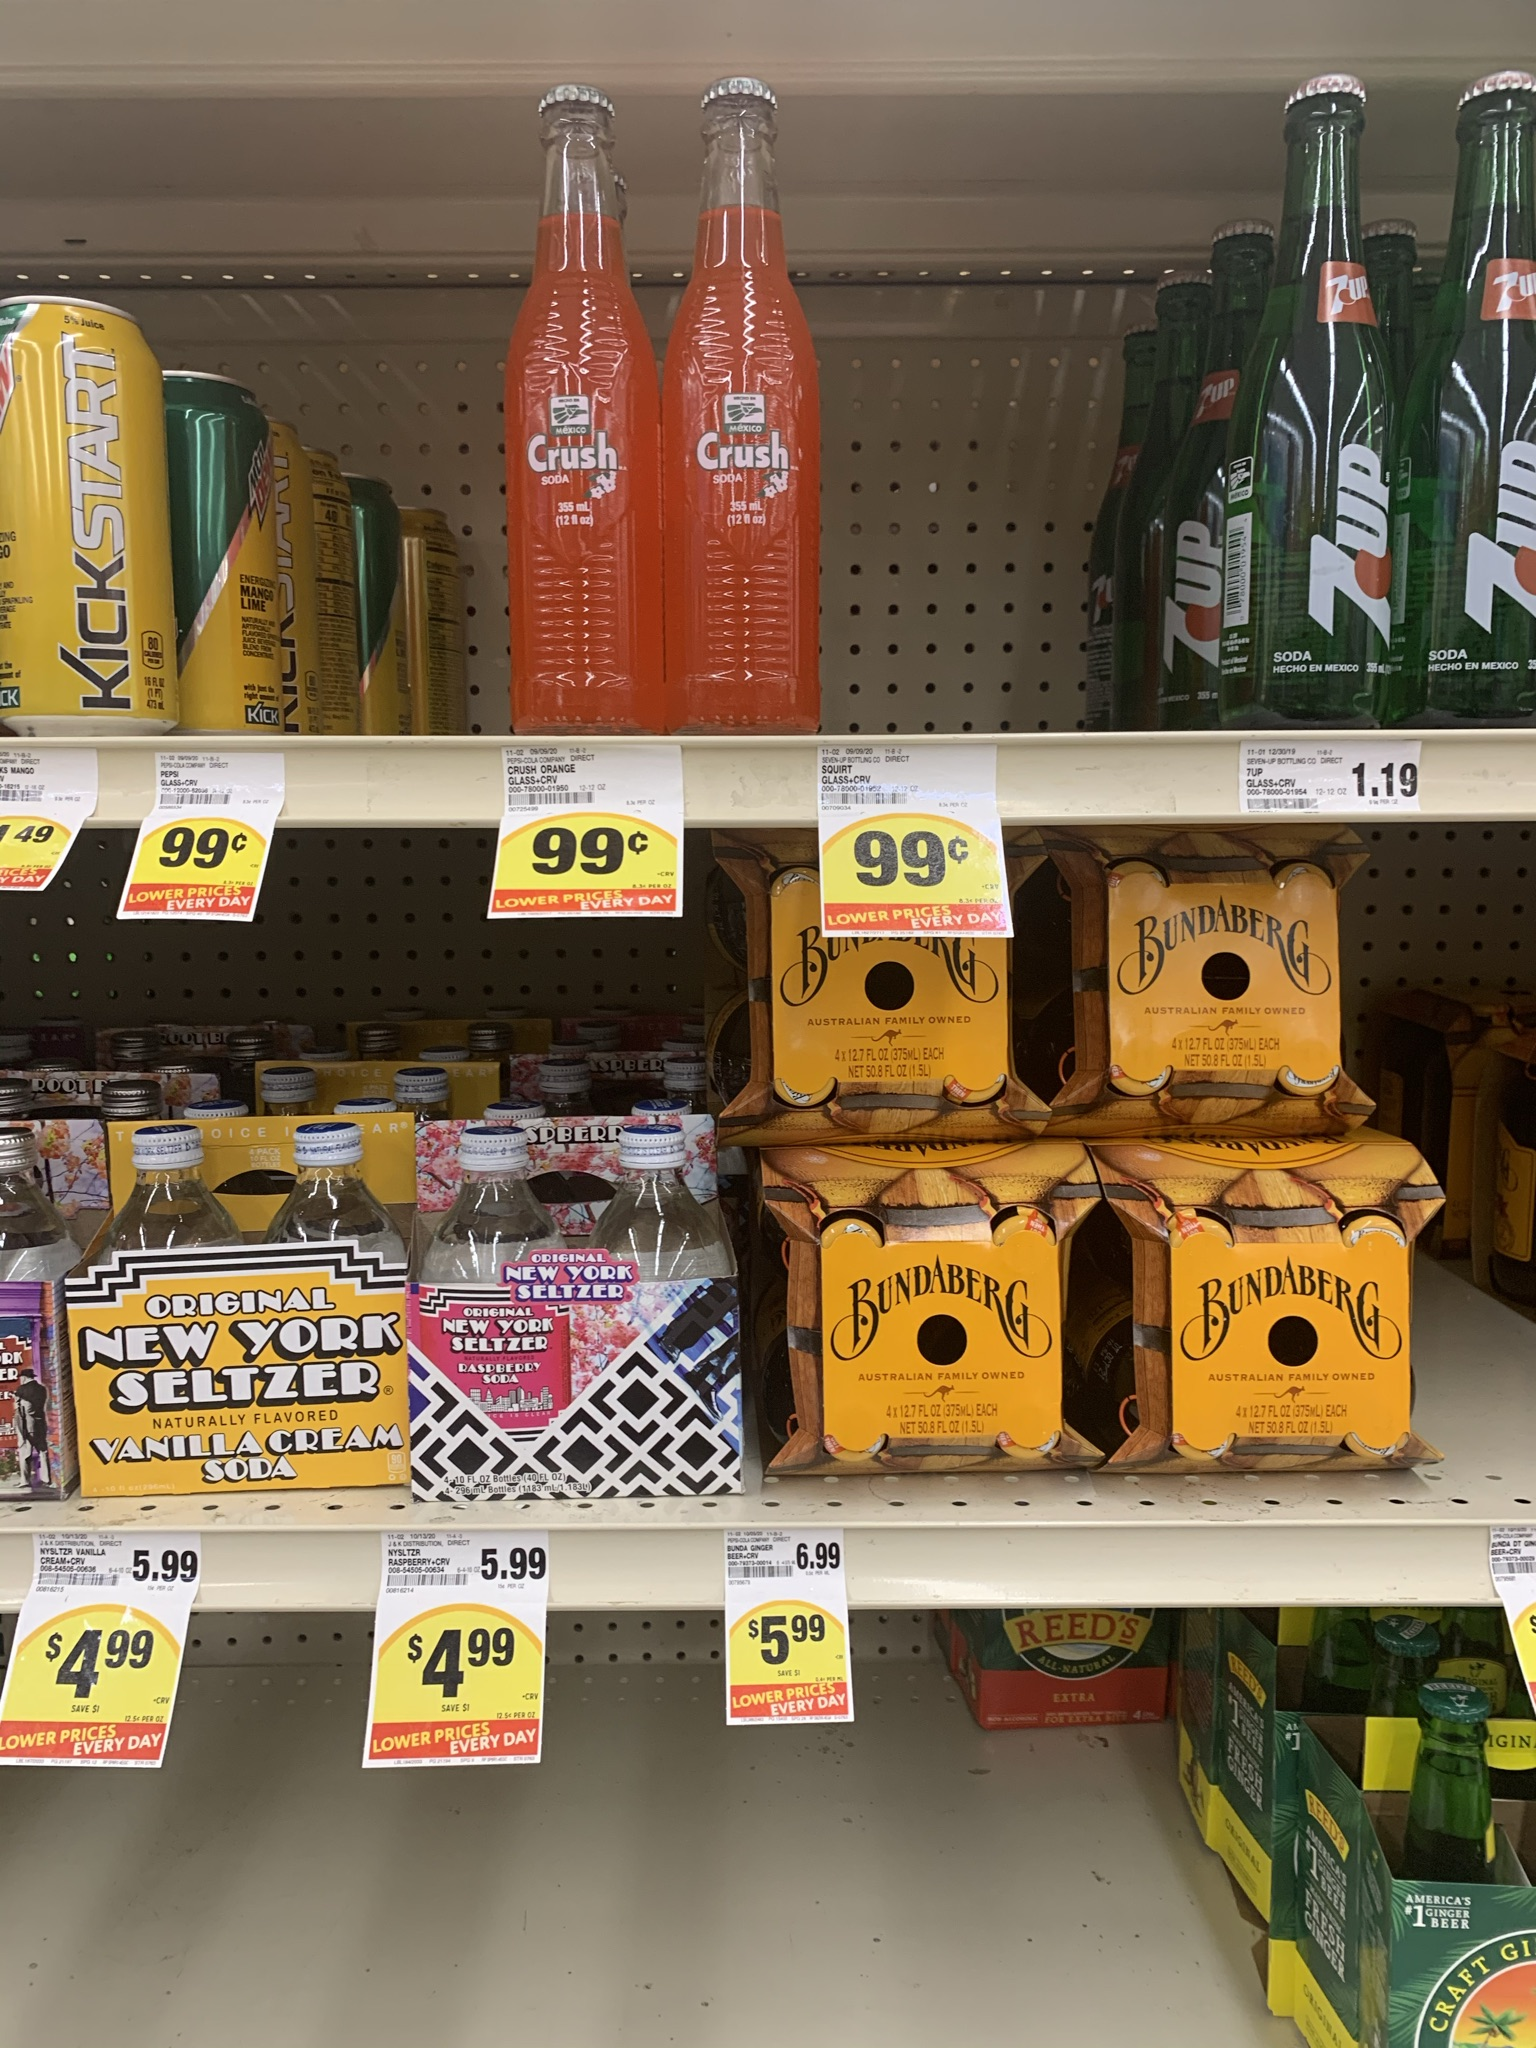can: (5, 310, 153, 722), (171, 384, 269, 731)
